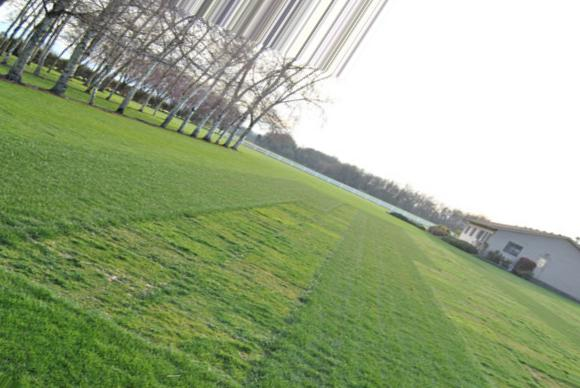patch: (247, 268, 296, 296)
